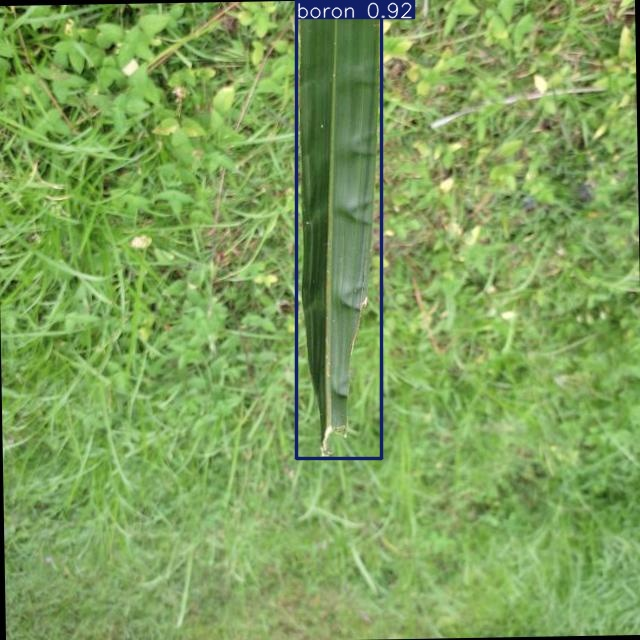nitrogen: (297, 1, 381, 459)
